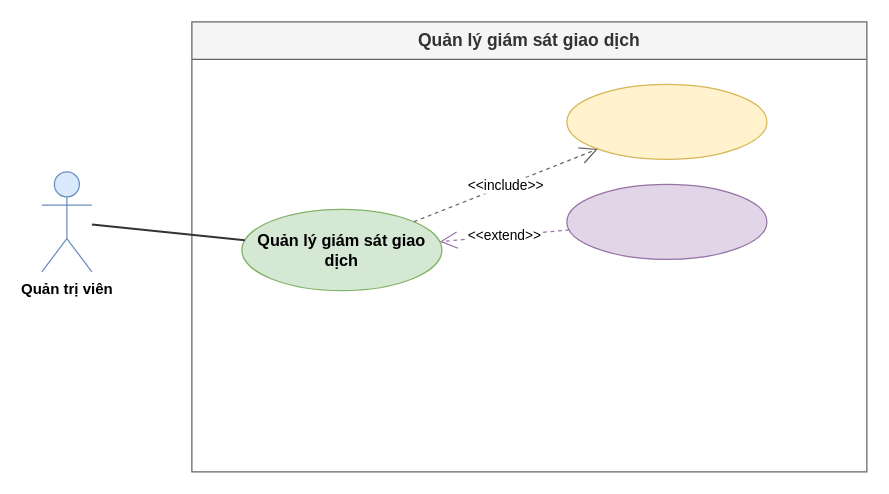
Some shapes in this 889 by 494 pixel diagram are drawn without their labels. The box of each missing label's shape, as (x1, y1, x2, y2) in pixels:
Xem chi tiết đơn hàng: (566, 183, 767, 259)
Xem danh sách đơn toàn sàn: (566, 83, 767, 159)
